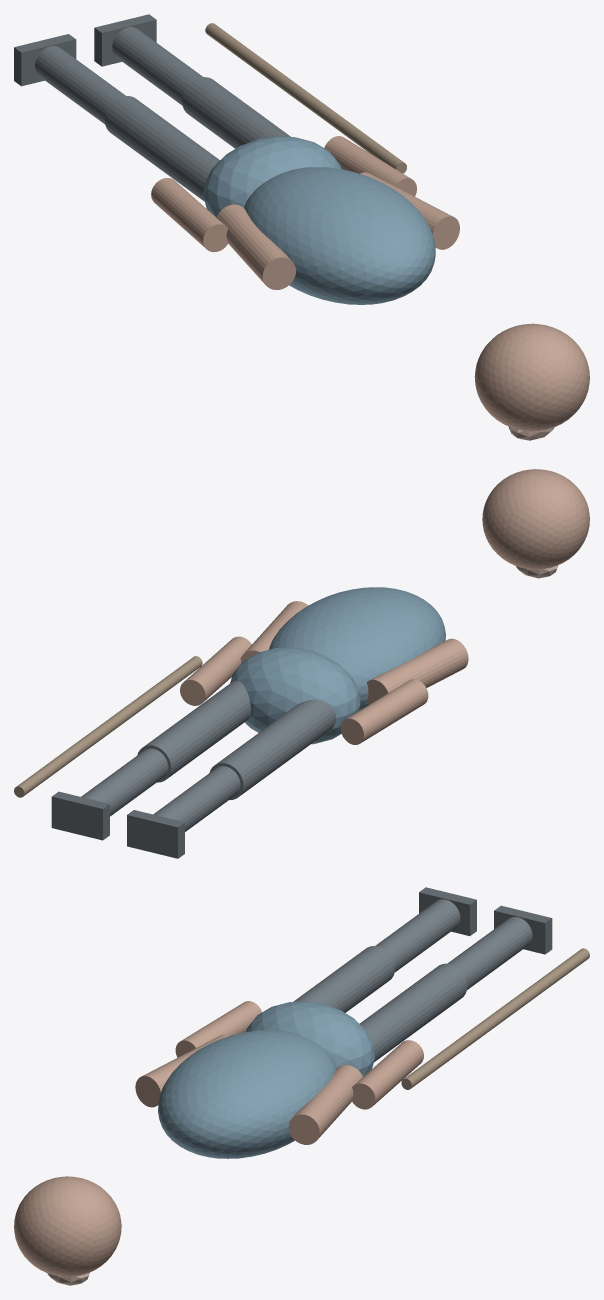
Rendered from older-high.glb.
3 views of the same model, one above another, from view 1: azimuth 30°, elevation 25°; view 2: azimuth 150°, elevation 25°; view 3: azimuth 330°, elevation 25° (orthographic). The views are drawn at different scales.
Parts seen in each view (by area): view 1: torso, head, pelvis, left_thigh, right_thigh, cane, left_upper_arm, left_lower_leg, right_lower_leg, left_forearm, right_forearm, left_foot (+2 smaller); view 2: torso, head, pelvis, left_thigh, right_thigh, cane, left_upper_arm, left_forearm, right_lower_leg, left_lower_leg, right_foot, left_foot (+2 smaller); view 3: torso, head, pelvis, right_thigh, left_thigh, cane, right_upper_arm, left_lower_leg, right_lower_leg, right_forearm, left_forearm, right_foot (+2 smaller).
Part boxes in pixels (x1,y1,x2,y2): torso: (244,167,435,304); head: (474,323,589,431); pelvis: (203,136,341,216); left_thigh: (104,96,219,201); right_thigh: (182,77,290,148); cane: (205,23,406,173); left_upper_arm: (216,204,295,289); left_lower_leg: (35,46,125,124); right_lower_leg: (112,27,203,105); left_forearm: (151,178,228,252); right_forearm: (324,136,416,196); left_foot: (14,34,76,86); torso: (269,587,445,710); head: (482,469,589,569); pelvis: (230,647,360,744); left_thigh: (209,699,335,799); right_thigh: (137,680,250,782); cane: (14,656,202,797); left_upper_arm: (366,638,468,704); left_forearm: (340,679,428,744); right_lower_leg: (81,748,168,816); left_lower_leg: (153,766,240,831); right_foot: (51,791,109,840); left_foot: (127,810,184,858); torso: (158,1030,336,1158); head: (14,1176,121,1276); pelvis: (246,1001,374,1076); right_thigh: (359,963,467,1062); left_thigh: (293,946,394,1012); cane: (401,948,589,1089); right_upper_arm: (288,1065,362,1144); left_lower_leg: (375,899,460,972); right_lower_leg: (447,917,532,989); right_forearm: (352,1040,423,1109); left_forearm: (175,1001,261,1057); right_foot: (494,905,552,954).
Bounding box in the file's own units: 1.42 × 0.648 × 5.16.
